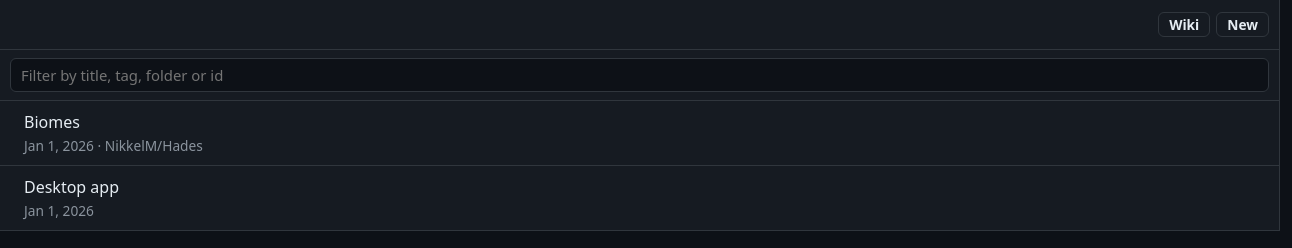
Sidebar finding a session the list hides › offers a session found by id when nothing in the list matches
Type "0bd2d807" into the search field at [640, 75], box [10,58,1269,92]
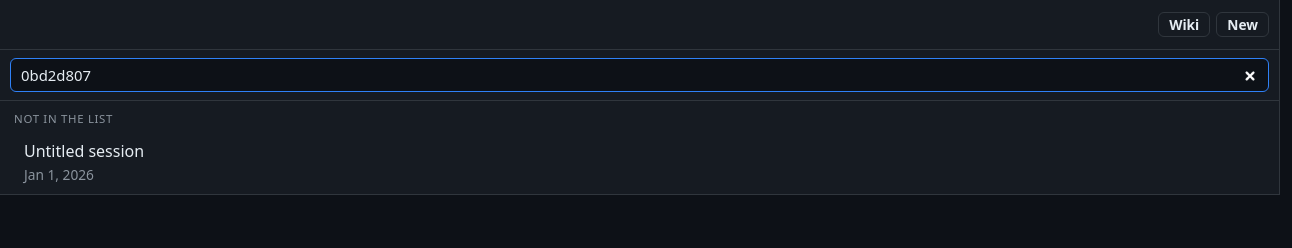
Check: the text "Not in the list" is shown, box [14,111,113,126]
